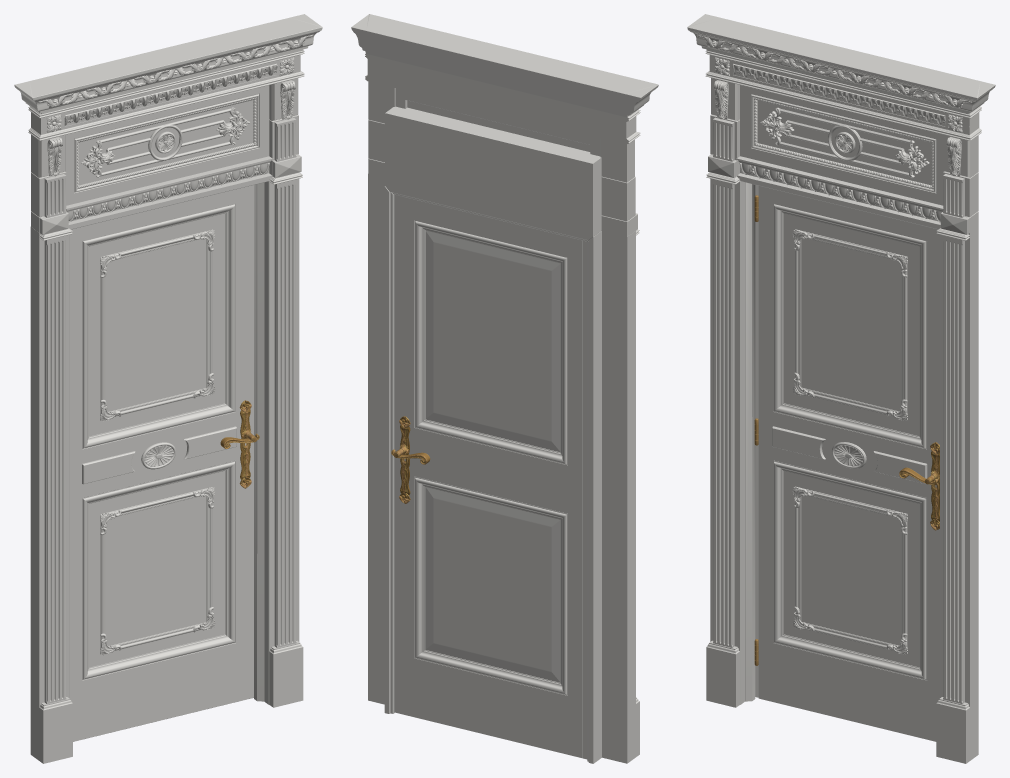
Rendered from Porta-animata.glb.
3 views of the same model, side by side, from view 1: azimuth 30°, elevation 25°; view 2: azimuth 150°, elevation 25°; view 3: azimuth 330°, elevation 25° (orthographic).
Visible parts, largest first — view 1: Porta, Cornice; view 2: Porta, Cornice; view 3: Porta, Cornice.
Part boxes in pixels (x1=…): Porta: x1=69, y1=185, x2=259, y2=741; Cornice: x1=14, y1=14, x2=322, y2=763; Porta: x1=391, y1=194, x2=587, y2=759; Cornice: x1=351, y1=14, x2=658, y2=763; Porta: x1=755, y1=185, x2=939, y2=741; Cornice: x1=687, y1=14, x2=995, y2=763.
Bounding box in the file's own units: 1.16 × 2.57 × 0.2247.
2 materials, 1 textured.
